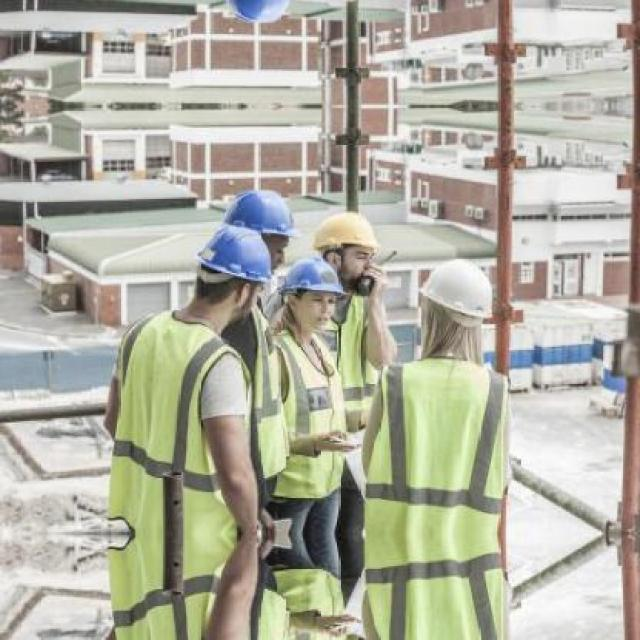Reflective-Jacket: (91, 308, 257, 534), (359, 353, 523, 534), (257, 327, 352, 507), (317, 288, 397, 442)
Safety-Helmet: (412, 250, 510, 333), (184, 220, 278, 292), (215, 184, 303, 245), (306, 207, 389, 262), (274, 253, 349, 304)
